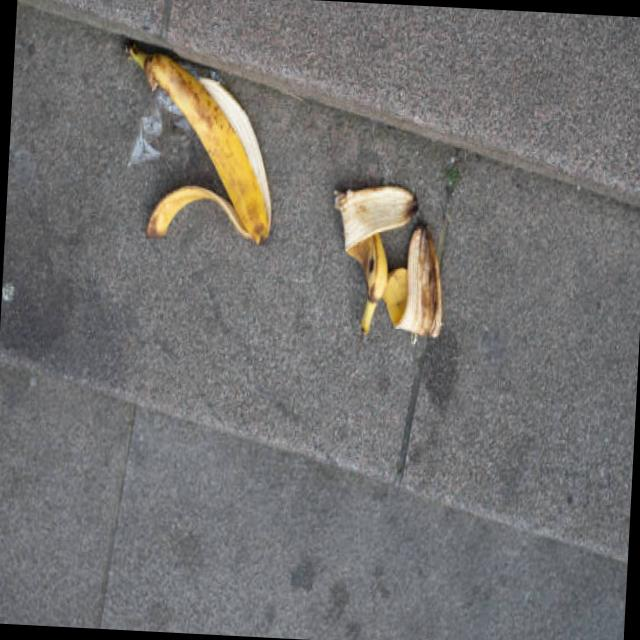banana_peel: (92, 22, 281, 261), (325, 172, 451, 350)
